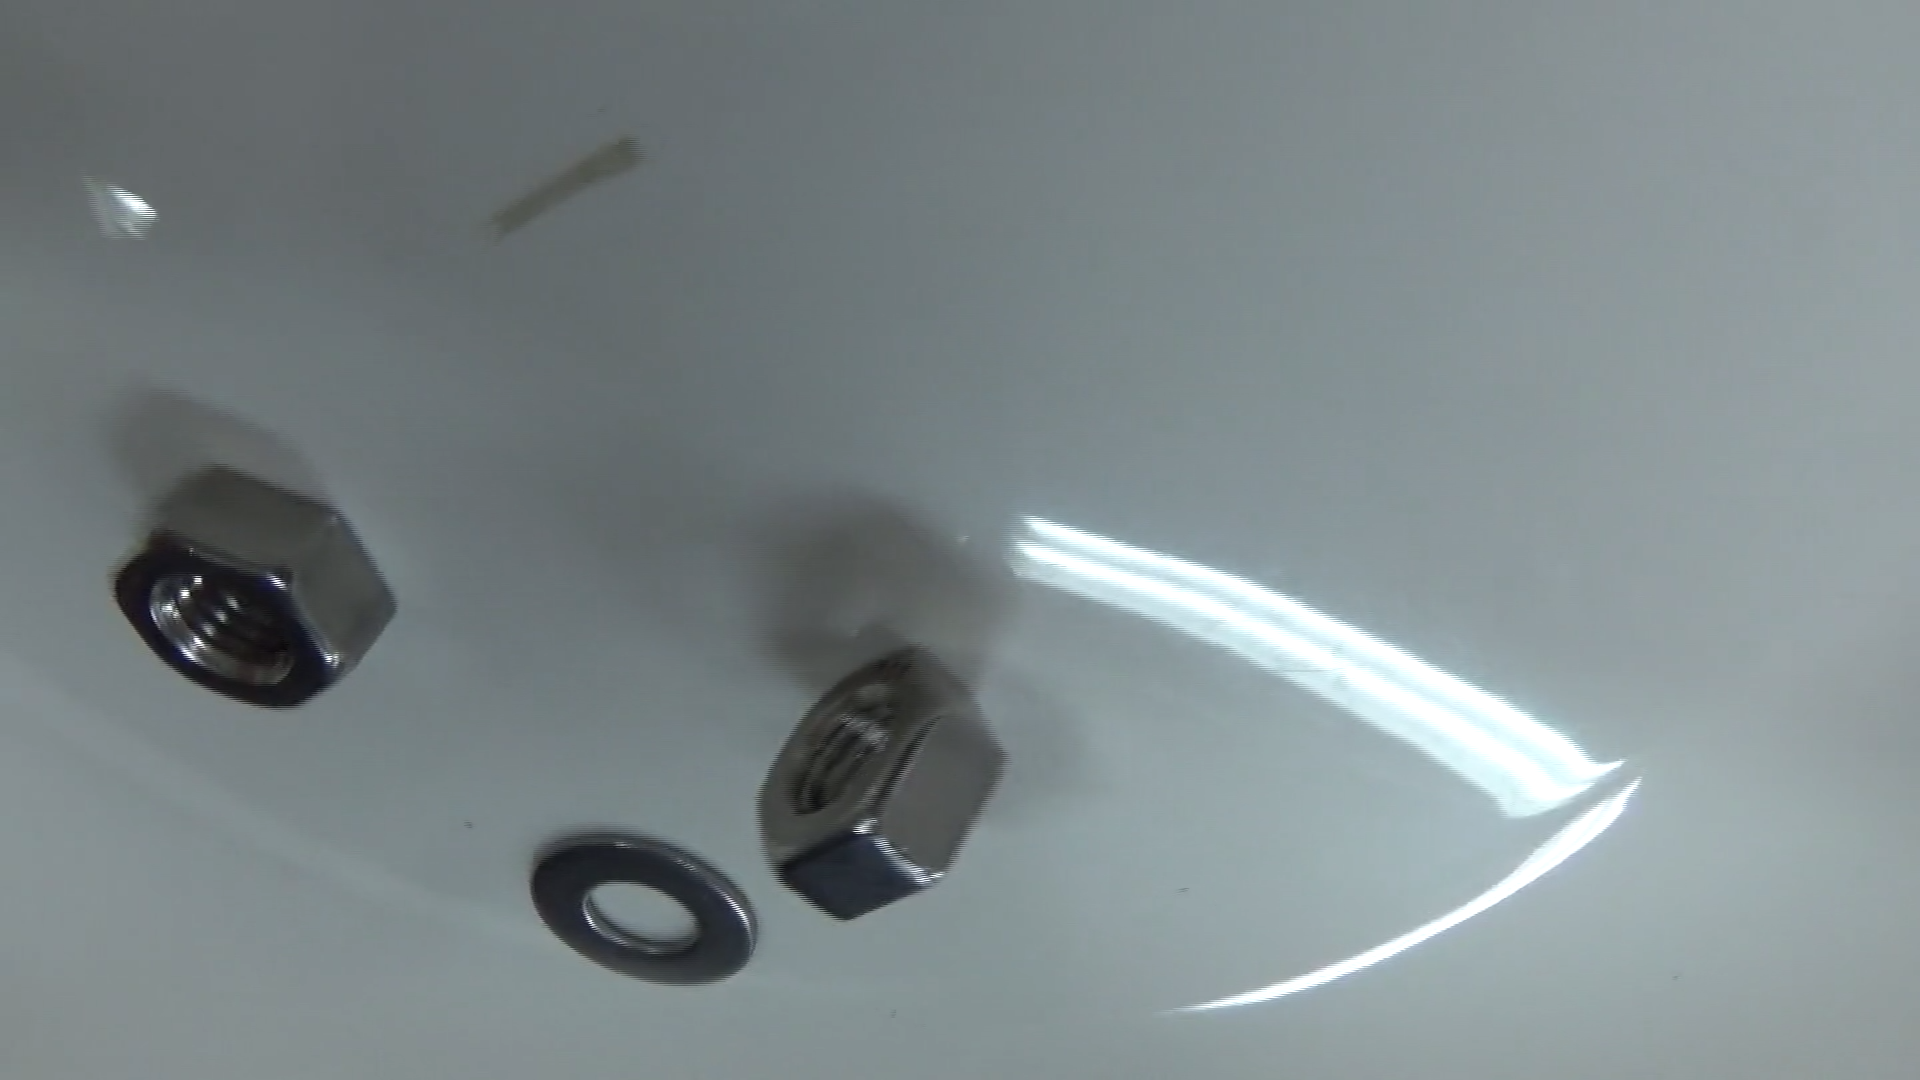nut: (111, 462, 398, 709), (752, 646, 1004, 920)
washer: (524, 825, 760, 978)
